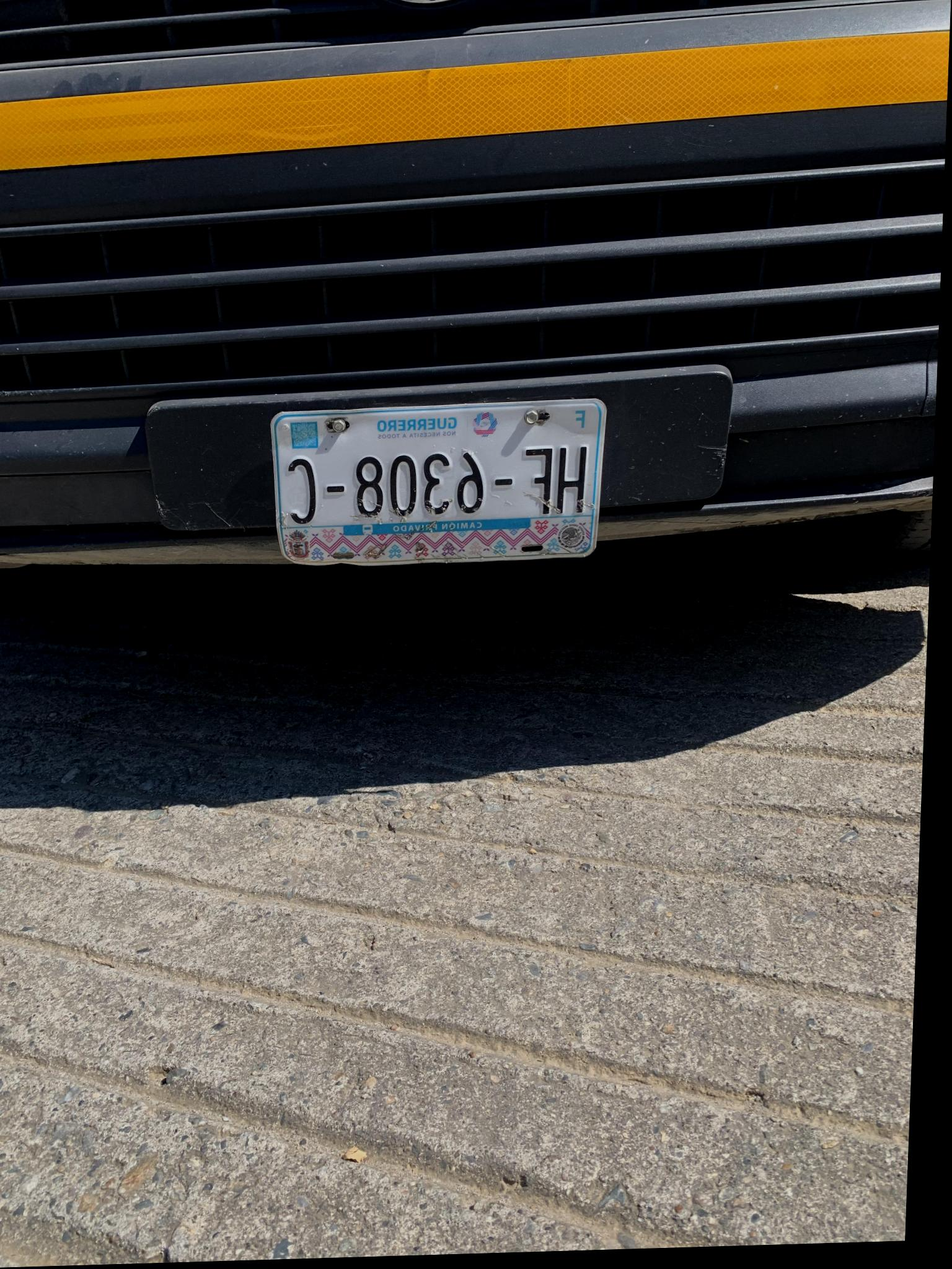License_Plate: (239, 377, 636, 597)
